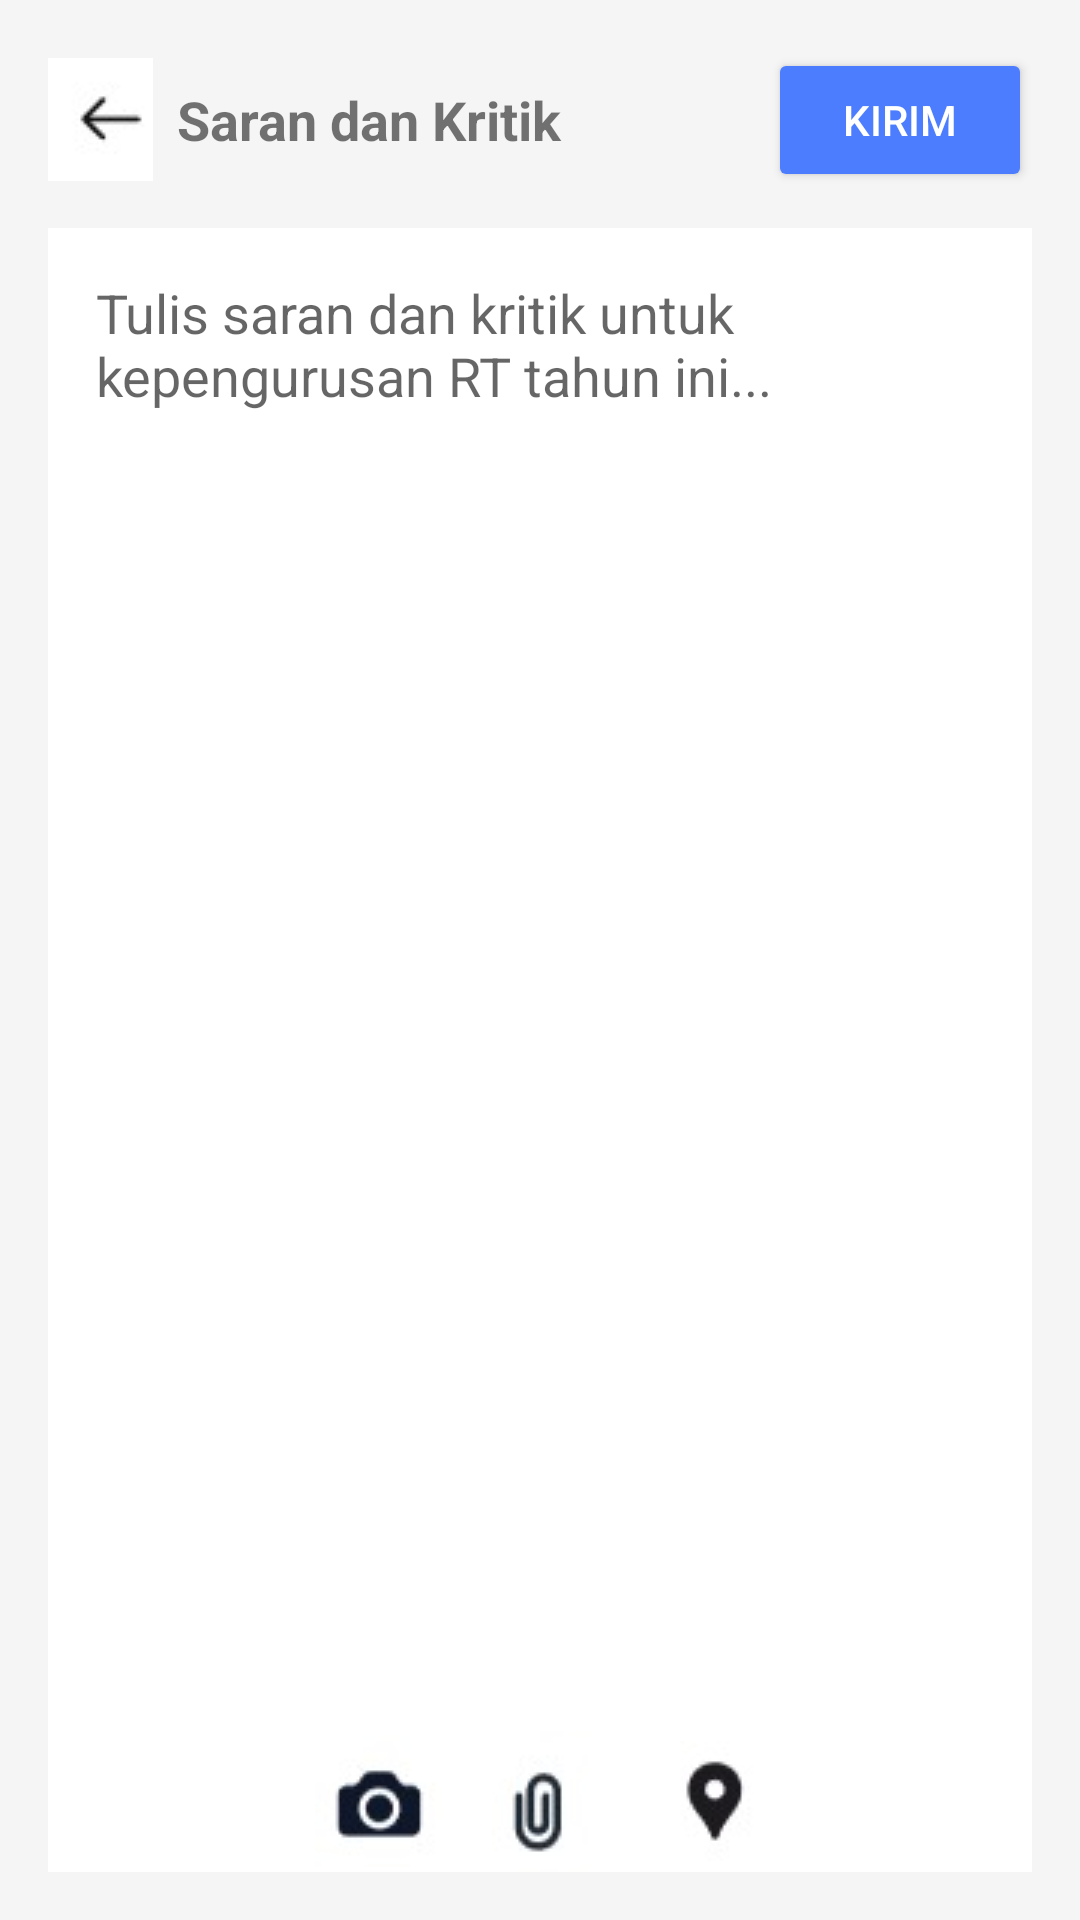

Named icons in this screenshot (1080px×1920px) and their bounding boxes, bbox(x1, y1, x2, y2):
Kamera: bbox(336, 1770, 423, 1838)
Lampiran: bbox(513, 1772, 562, 1852)
Lokasi: bbox(686, 1761, 743, 1841)
